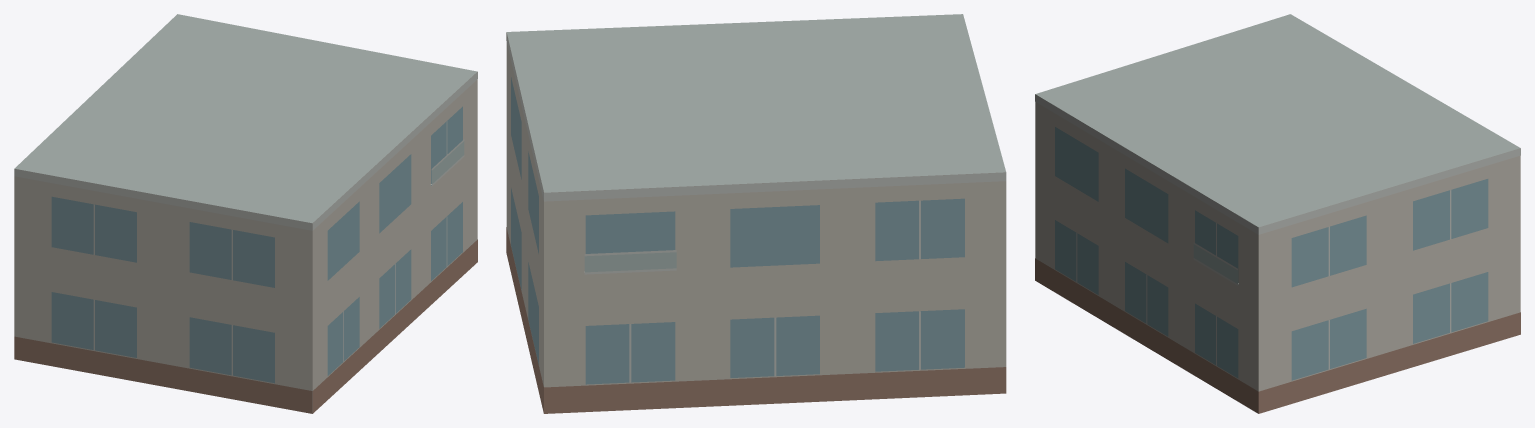
File: survey-upis-32777010.glb
3 renders of one model, left to right at view 1: azimuth 30°, elevation 25°; view 2: azimuth 150°, elevation 25°; view 3: azimuth 270°, elevation 25°, orthographic. The views are drawn at different scales.
Visible parts, largest first — view 1: survey-upis-32777010.tmp; view 2: survey-upis-32777010.tmp; view 3: survey-upis-32777010.tmp.
Boxes of the visible parts, bbox=[...] form: survey-upis-32777010.tmp: bbox=[14, 14, 477, 413]; survey-upis-32777010.tmp: bbox=[506, 14, 1006, 413]; survey-upis-32777010.tmp: bbox=[1035, 14, 1520, 413].
Size of the model in its own units: 14.98 by 6.1 by 14.4.
